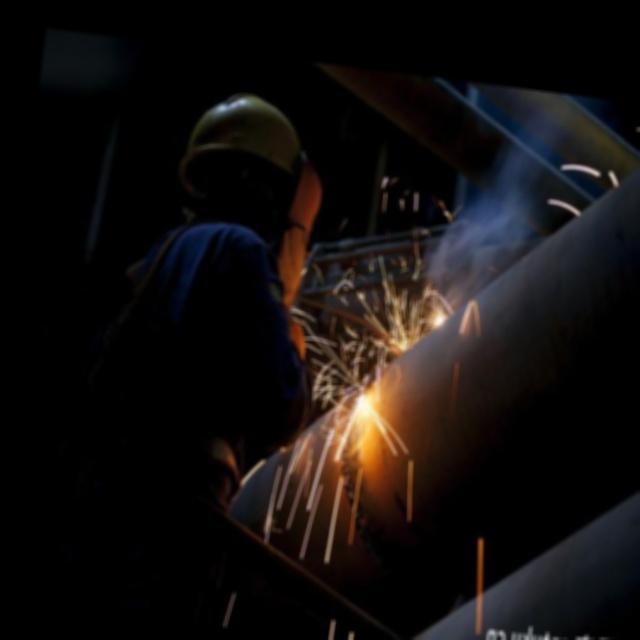Con_Casco: (176, 86, 316, 245)
